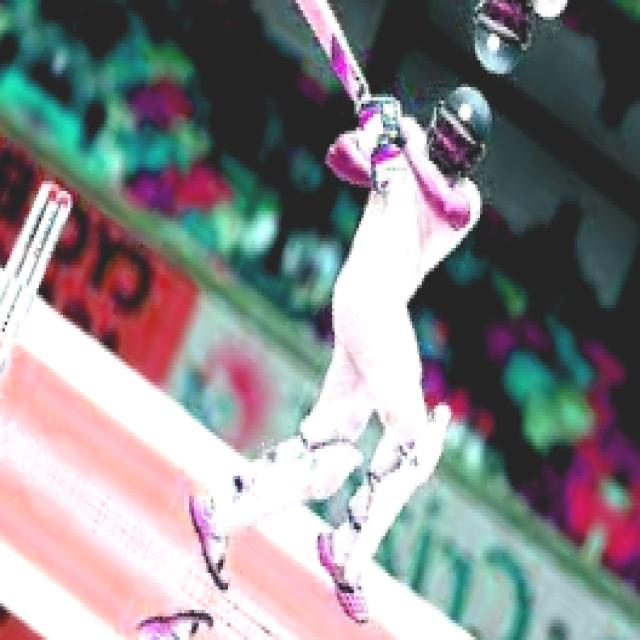toe: (294, 0, 334, 27)
